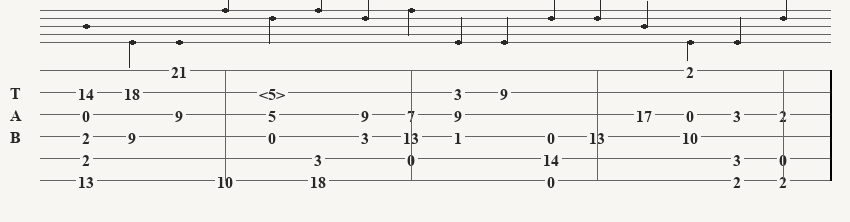0: (82, 107, 94, 122), (268, 129, 280, 144), (407, 151, 419, 166), (547, 173, 559, 188), (547, 129, 559, 144), (686, 107, 698, 122), (779, 151, 791, 166)
1: (454, 129, 466, 144)
10: (217, 173, 237, 188), (682, 129, 702, 144)
13: (78, 173, 98, 188), (403, 129, 423, 144), (589, 129, 609, 144)
14: (78, 85, 98, 100), (543, 151, 563, 166)
17: (636, 107, 656, 122)
18: (124, 85, 144, 100), (310, 173, 330, 188)
2: (82, 151, 94, 166), (82, 129, 94, 144), (686, 63, 698, 78), (733, 173, 745, 188), (779, 107, 791, 122), (779, 173, 791, 188)
21: (171, 63, 191, 78)
3: (314, 151, 326, 166), (361, 129, 373, 144), (454, 85, 466, 100), (733, 107, 745, 122), (733, 151, 745, 166)
5: (268, 107, 280, 122)
7: (407, 107, 419, 122)
9: (128, 129, 140, 144), (175, 107, 187, 122), (361, 107, 373, 122), (454, 107, 466, 122), (500, 85, 512, 100)
harmonic: (259, 85, 289, 100)
